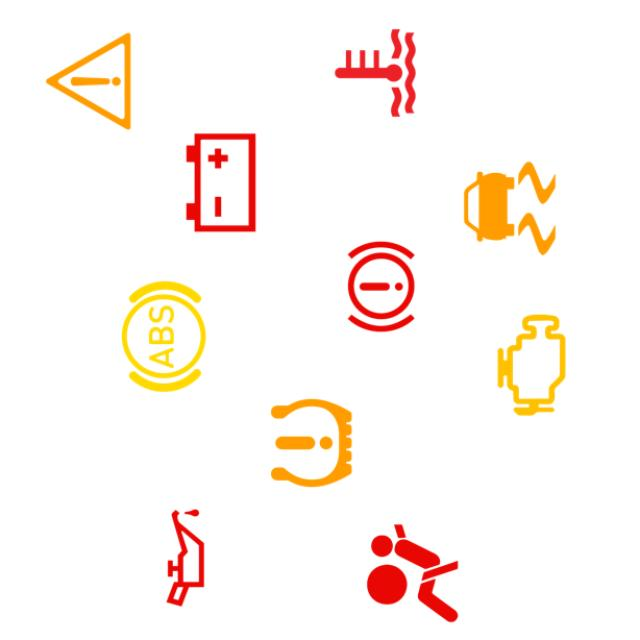Anti Lock Braking System: (103, 276, 224, 397)
Braking System Issue: (321, 226, 442, 347)
Charging System Issue: (160, 122, 282, 243)
Check Engine: (471, 304, 592, 426)
Electronic Stability Problem -ESP-: (449, 148, 570, 269)
Engine Overheating Warning Light: (314, 12, 436, 134)
Low Engine Oil Warning Light: (125, 497, 246, 618)
Low Tire Pressure Warning Light: (251, 382, 372, 503)
Master warning light: (28, 21, 149, 142)
SRS-Airbag: (352, 513, 473, 634)
